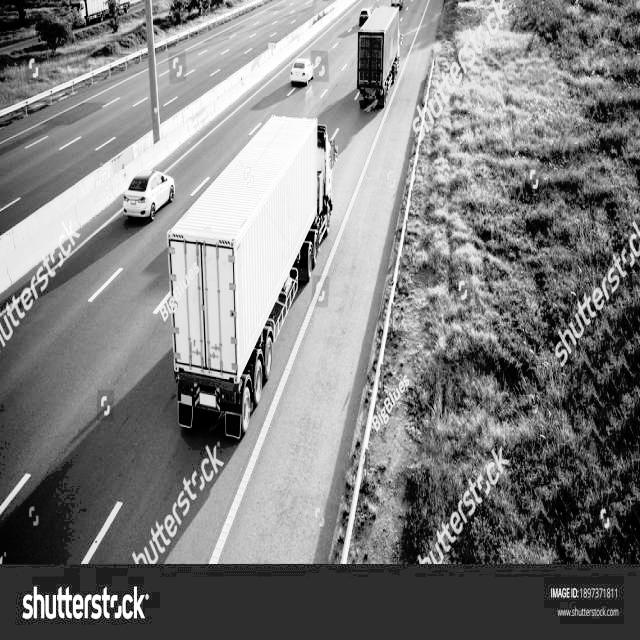HCV: (166, 99, 340, 447)
